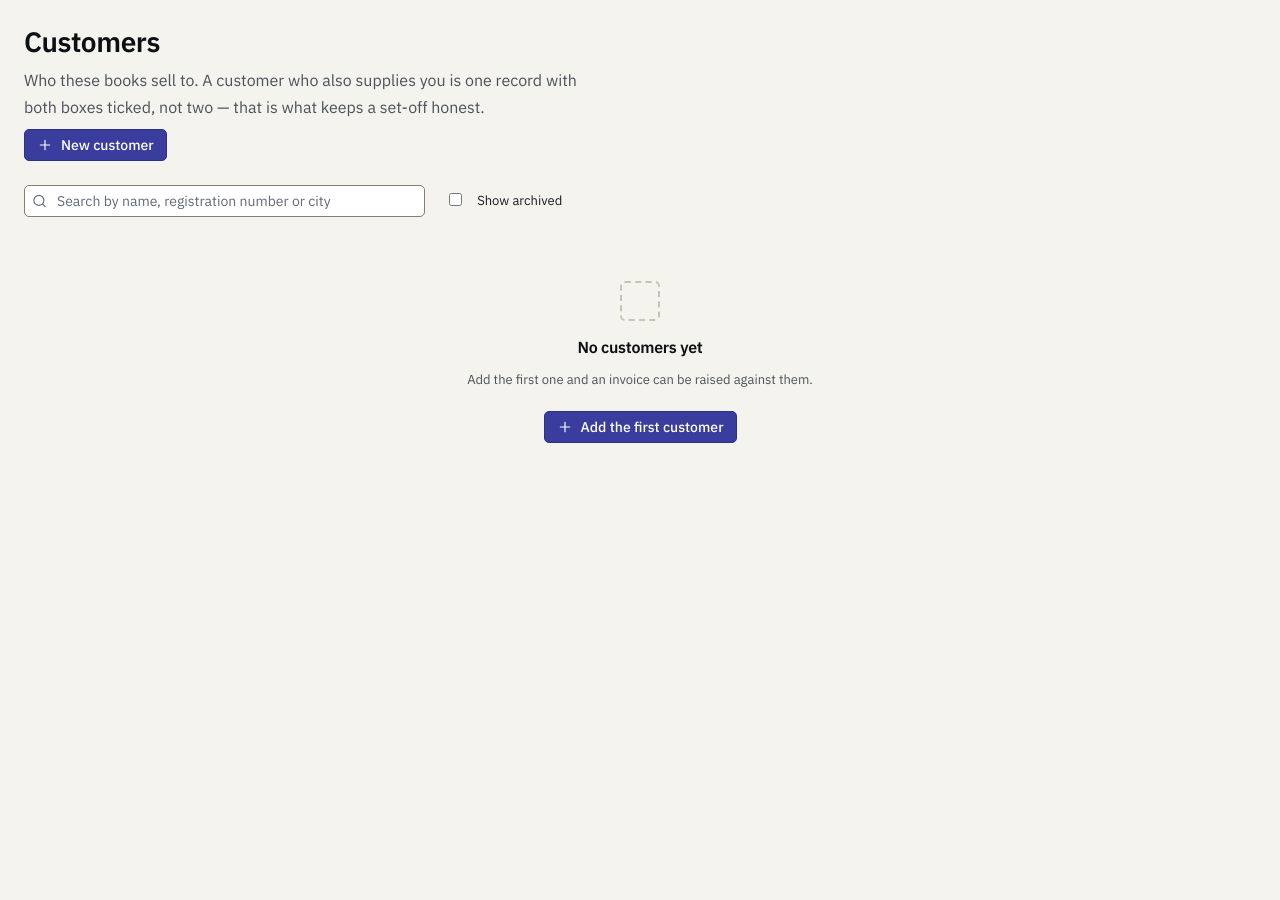
it: adding › will not let a record be neither, and says why
Expected: the heading "No customers yet" is shown, [577,337,703,357]
Click the button "New customer" at point(95, 145), box [24,129,167,161]
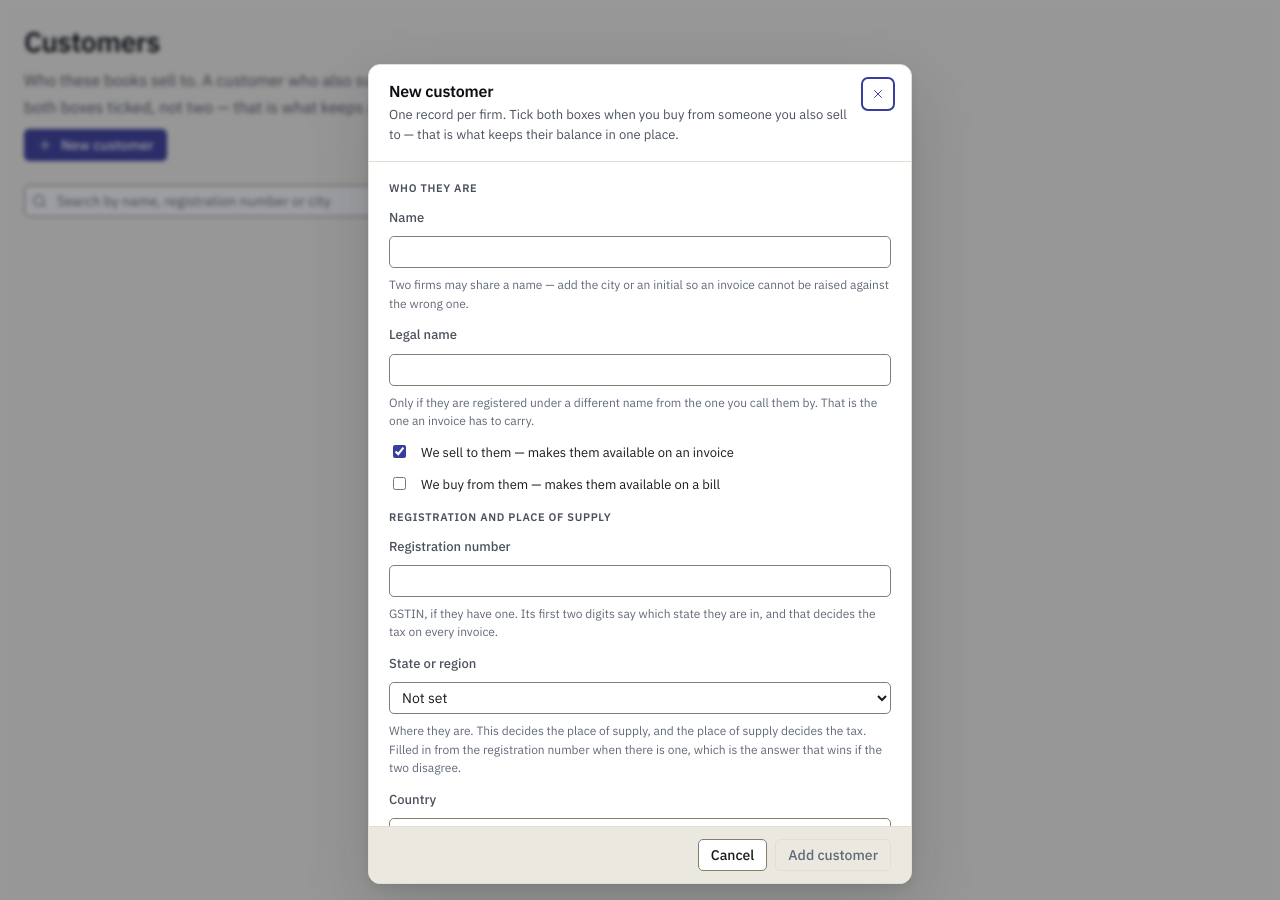
Type "Nobody" into the field labelled "Name" at point(640, 252), box [389,236,891,268]
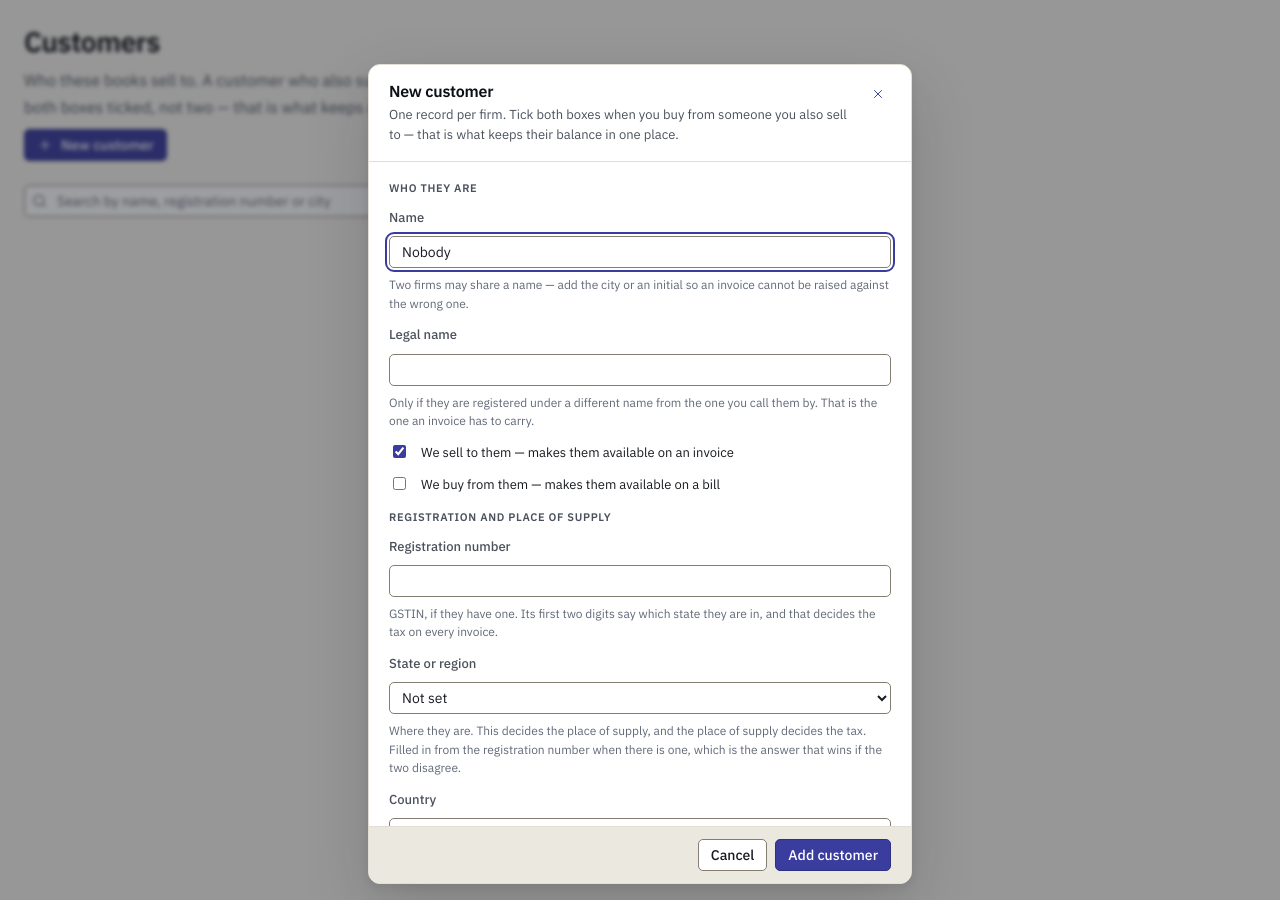
Click the checkbox labelled "We sell to them — makes them available on an invoice" at point(400, 451), box [393,445,406,458]
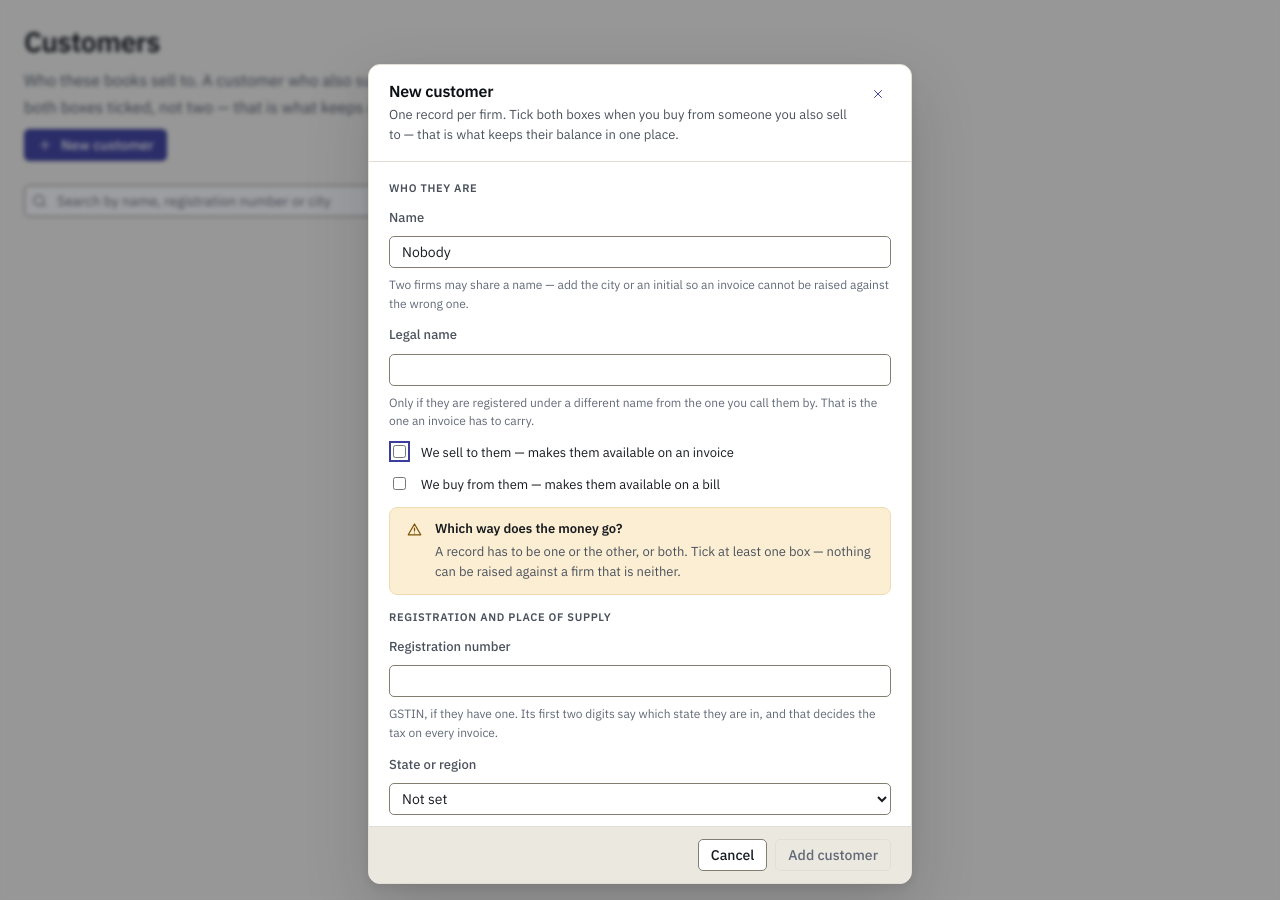
Expected: the text "Which way does the money go?" is shown, [435,520,622,537]
Expected: the button "Add customer" is disabled, [775,839,891,871]
